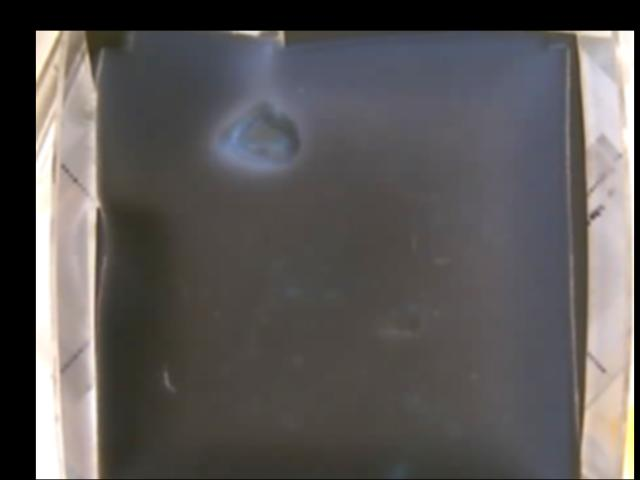Pebble: (216, 97, 302, 168)
